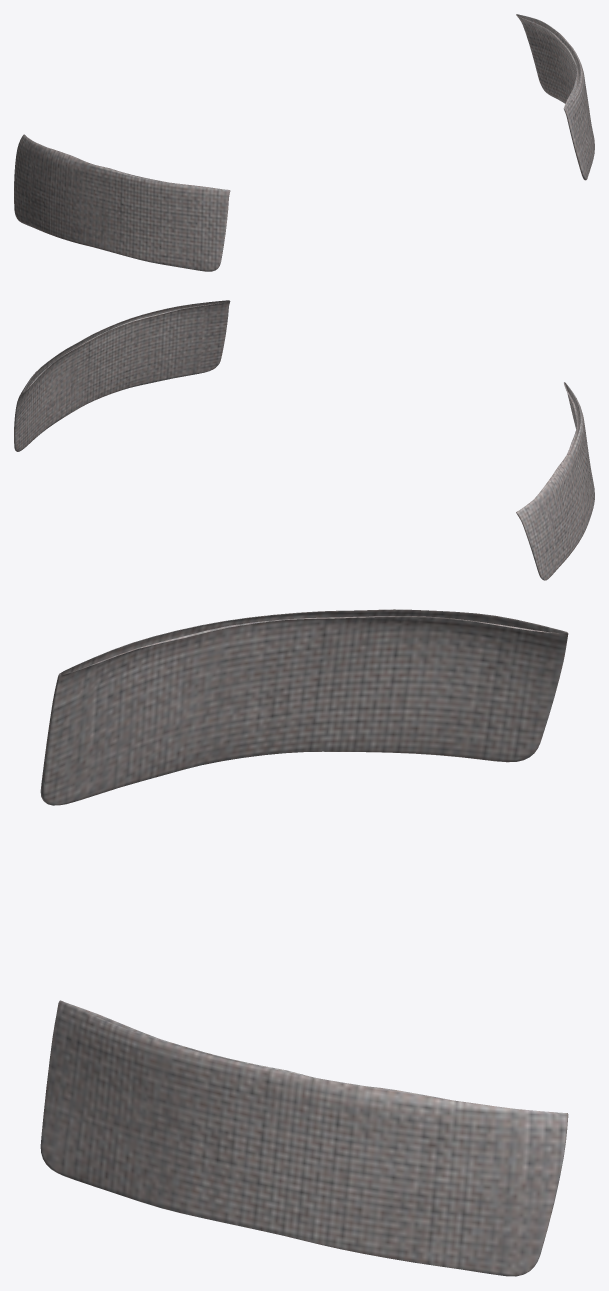
The model's file is Flap_Pocket.glb.
The picture shows the model from 3 angles, top to bottom: view 1: azimuth 30°, elevation 25°; view 2: azimuth 150°, elevation 25°; view 3: azimuth 270°, elevation 25°; orthographic projection. The views are drawn at different scales.
Visible parts, largest first — view 1: Flap_Pocket; view 2: Flap_Pocket; view 3: Flap_Pocket.
Boxes of the visible parts, x1=… form: Flap_Pocket: x1=14, y1=14, x2=594, y2=271; Flap_Pocket: x1=14, y1=300, x2=594, y2=580; Flap_Pocket: x1=40, y1=609, x2=568, y2=1276.
Size of the model in its own units: 0.0463 by 0.00763 by 0.02.
1 material, 1 textured.
